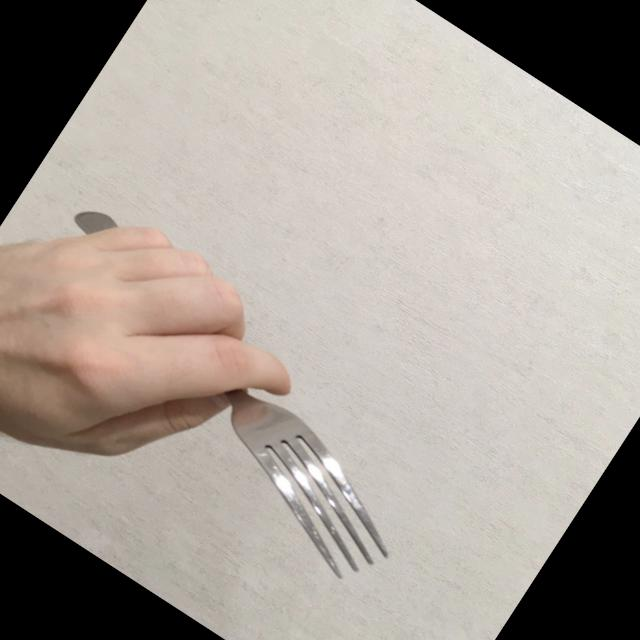fork: (0, 197, 462, 598)
